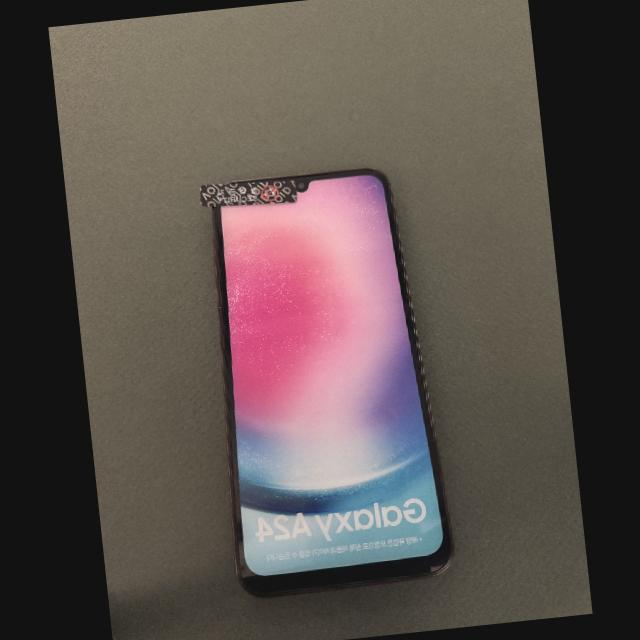lens: (297, 181, 306, 189)
phone: (210, 168, 453, 596)
sticker: (198, 179, 298, 209)
